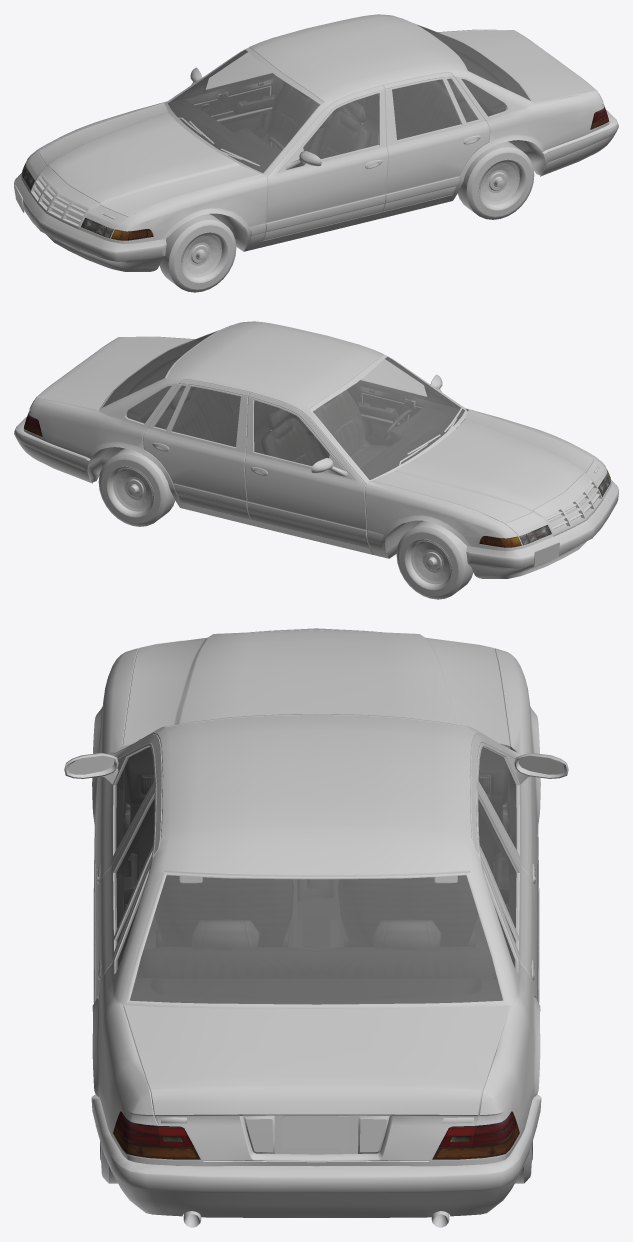
The model's file is 50UNMRKD90.fbx.
3 views of the same model, one above another, from view 1: azimuth 30°, elevation 25°; view 2: azimuth 150°, elevation 25°; view 3: azimuth 270°, elevation 25° (orthographic). The views are drawn at different scales.
Visible parts, largest first — view 1: Illinois90_Body, Illinois90_Interior, Illinois90_Hood, Illinois90_Bottom, Illinois90_Windshield, Illinois90_Body_Glass, Illinois90_Trunkdoor, Illinois90_Wheel_FL, Illinois90_Wheel_RL, Illinois90_Bumper_front, Illinois90_Bumper_front_inner, Illinois90_Rear_Glass (+4 smaller); view 2: Illinois90_Body, Illinois90_Interior, Illinois90_Hood, Illinois90_Bottom, Illinois90_Windshield, Illinois90_Body_Glass, Illinois90_Trunkdoor, Illinois90_Wheel_FR, Illinois90_Wheel_RR, Illinois90_Bumper_front, Illinois90_Rear_Glass, Illinois90_Bumper_front_inner (+5 smaller); view 3: Illinois90_Body, Illinois90_Interior, Illinois90_Trunkdoor, Illinois90_Rear_Glass, Illinois90_Hood, Illinois90_Bottom, Illinois90_Bumper_rear, Illinois90_Body_Glass, Illinois90_Bumper_rear_inner, Illinois90_Stoplights_glass, Illinois90_Trunkdoor_Misc, Illinois90_Blinkers (+1 smaller).
Part boxes in pixels (x1,y1,x2,y2): Illinois90_Body: (21,14,609,251); Illinois90_Interior: (168,25,530,172); Illinois90_Hood: (39,103,260,216); Illinois90_Bottom: (21,15,608,251); Illinois90_Windshield: (168,50,319,172); Illinois90_Body_Glass: (206,52,506,159); Illinois90_Trunkdoor: (439,30,596,103); Illinois90_Wheel_FL: (159,214,236,292); Illinois90_Wheel_RL: (457,141,534,219); Illinois90_Bumper_front: (15,173,166,271); Illinois90_Bumper_front_inner: (14,178,166,261); Illinois90_Rear_Glass: (416,24,530,100); Illinois90_Body: (23,321,611,558); Illinois90_Interior: (102,332,464,479); Illinois90_Hood: (372,410,593,523); Illinois90_Bottom: (24,322,611,558); Illinois90_Windshield: (313,357,464,479); Illinois90_Body_Glass: (126,359,426,466); Illinois90_Trunkdoor: (36,337,193,410); Illinois90_Wheel_FR: (396,521,473,599); Illinois90_Wheel_RR: (98,448,175,526); Illinois90_Bumper_front: (466,480,617,578); Illinois90_Rear_Glass: (102,331,216,407); Illinois90_Bumper_front_inner: (466,485,618,568); Illinois90_Body: (92,628,540,1166); Illinois90_Interior: (116,747,516,1004); Illinois90_Trunkdoor: (123,1005,509,1161); Illinois90_Rear_Glass: (130,875,502,1004); Illinois90_Hood: (122,630,510,748); Illinois90_Bottom: (64,628,568,1227); Illinois90_Bumper_rear: (91,1095,541,1217); Illinois90_Body_Glass: (114,746,518,971); Illinois90_Bumper_rear_inner: (91,1098,541,1192); Illinois90_Stoplights_glass: (115,1111,517,1147); Illinois90_Trunkdoor_Misc: (161,1116,473,1147); Illinois90_Blinkers: (113,1125,519,1159).
Bounding box in the file's own units: 5166 × 1426 × 2094.
